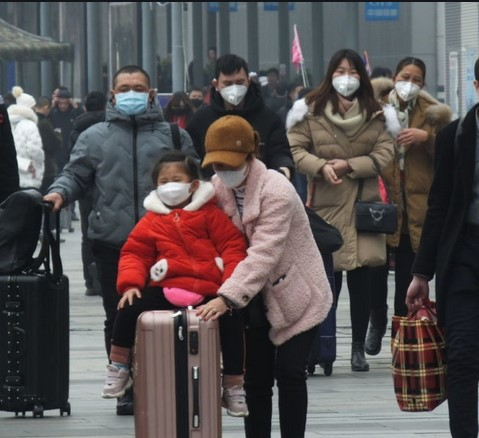face_with_mask: (202, 116, 256, 191), (148, 151, 200, 208), (209, 52, 256, 110), (108, 66, 158, 117), (325, 49, 369, 103), (392, 53, 428, 108)
